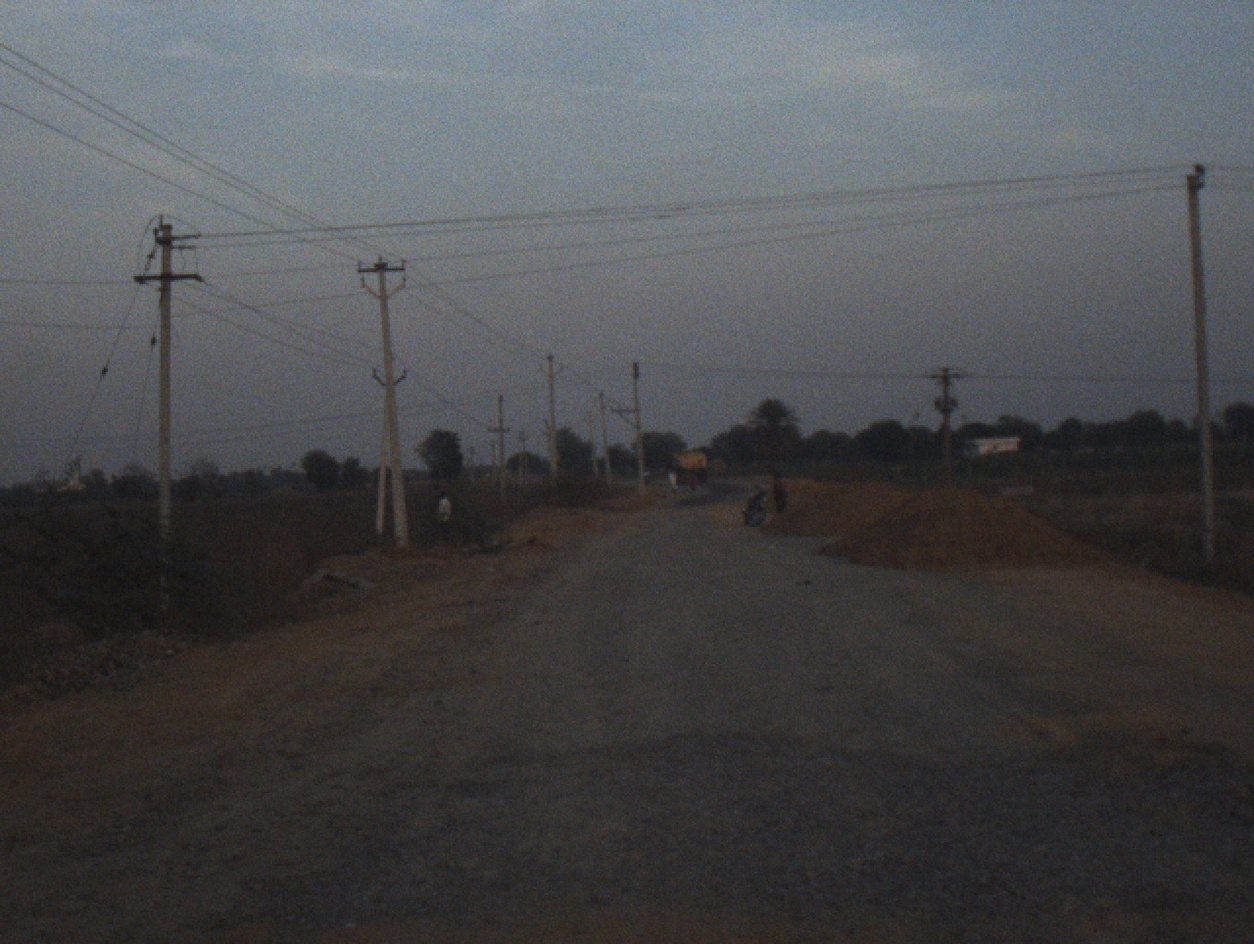motorcycle: (741, 483, 776, 531)
person: (769, 467, 791, 511), (435, 490, 455, 533), (687, 465, 698, 488), (667, 467, 676, 490)
truck: (671, 446, 708, 481)
